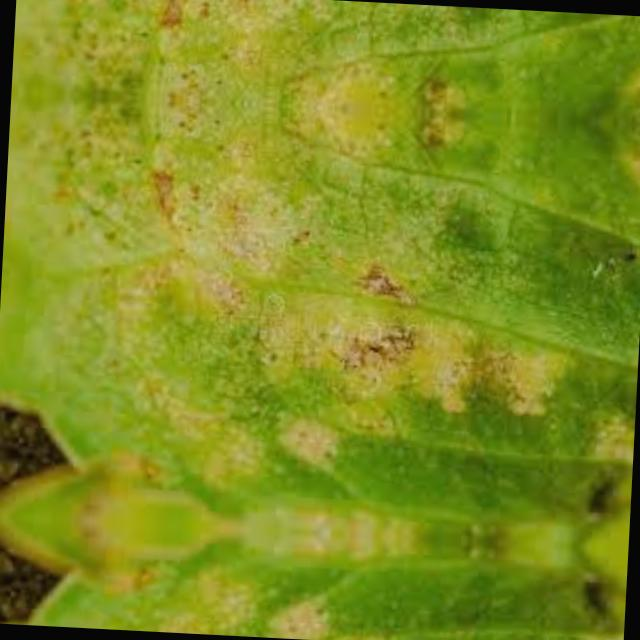Downy_mildew: (48, 138, 564, 528), (41, 535, 543, 640), (71, 0, 572, 74)
